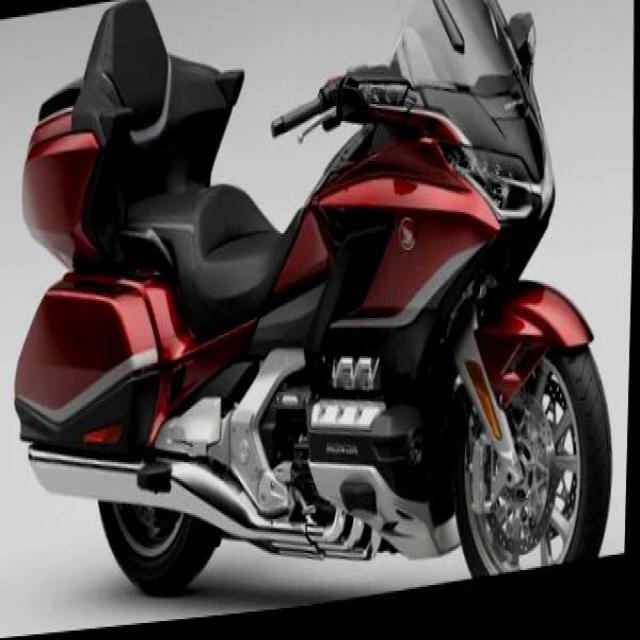Gold Wing: (2, 0, 628, 636)
